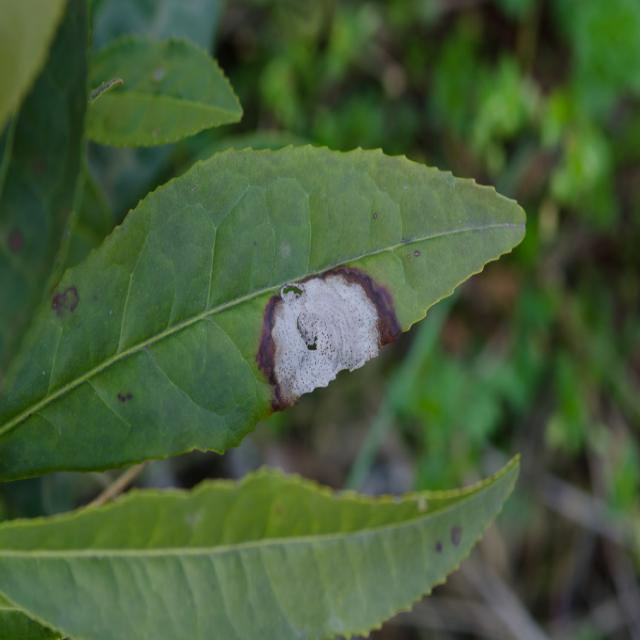Tea cloud leaf blight: (254, 261, 410, 395)
